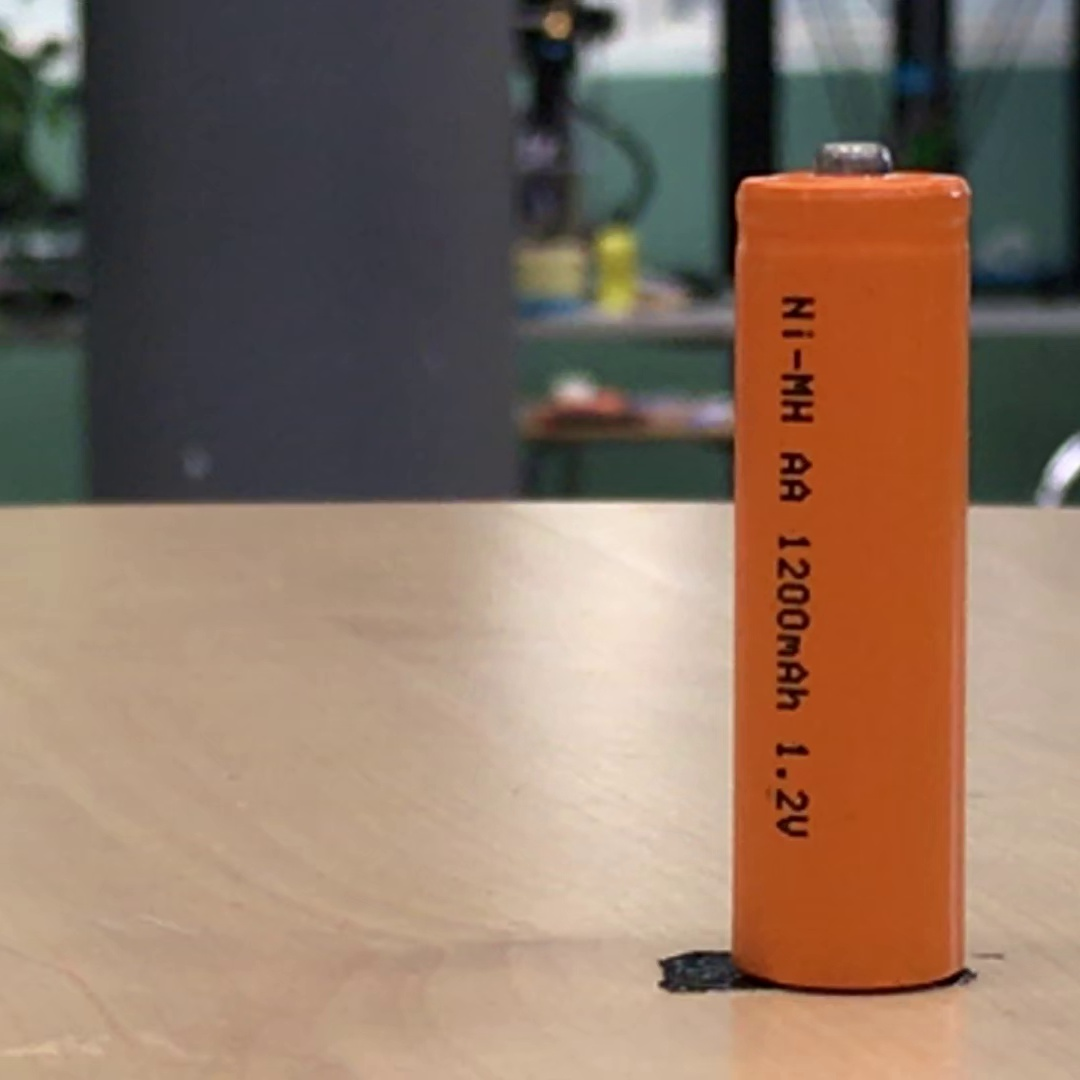keyword: (772, 286, 823, 432), (766, 734, 819, 847)
